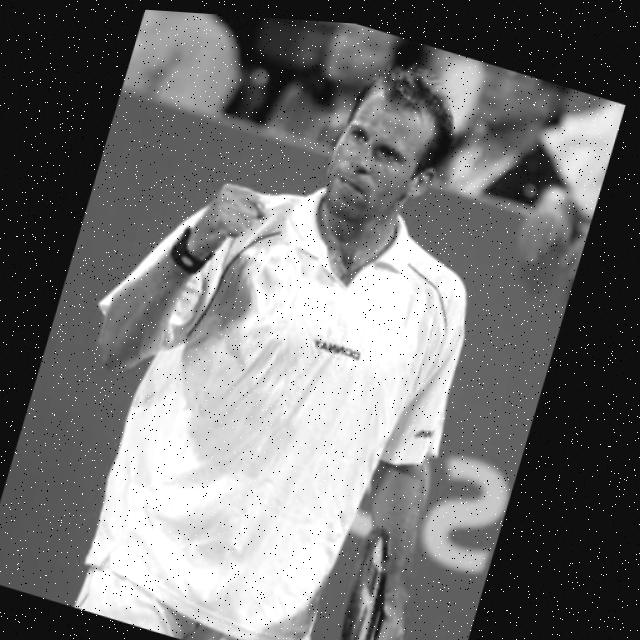face: (300, 53, 469, 246)
